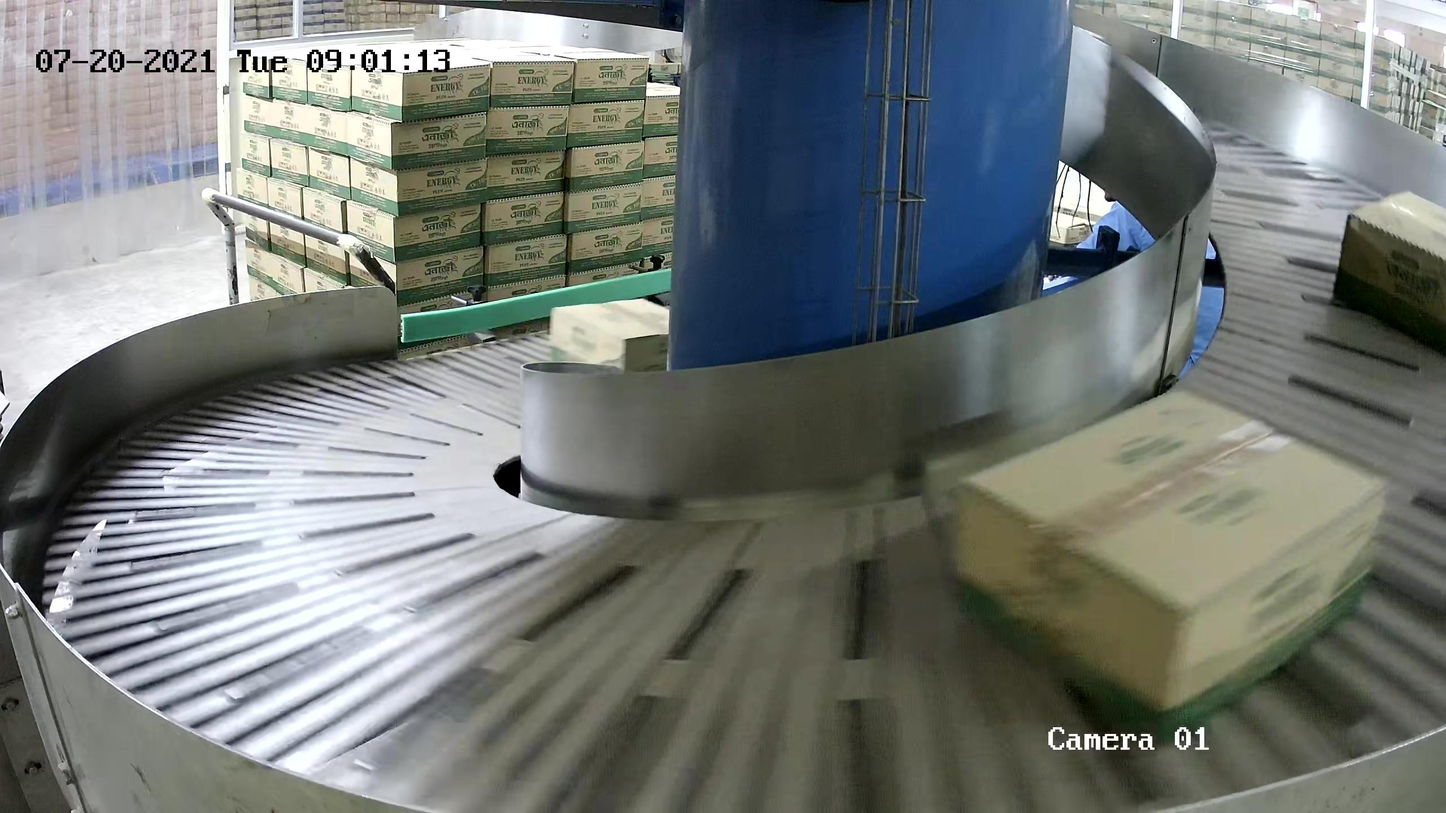Box: (946, 384, 1390, 751), (1330, 188, 1446, 365), (551, 299, 699, 398)
